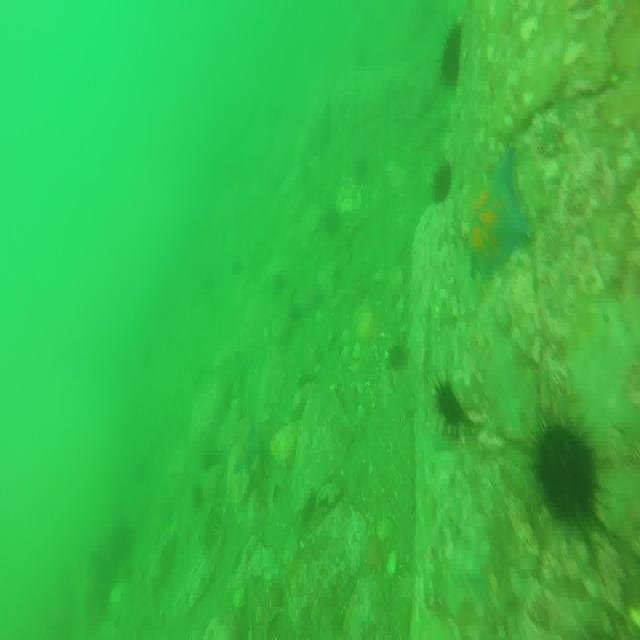echinus: (534, 411, 601, 528), (433, 382, 468, 436), (439, 25, 468, 87), (431, 161, 454, 206), (387, 343, 411, 376)
starfish: (470, 155, 529, 276)
